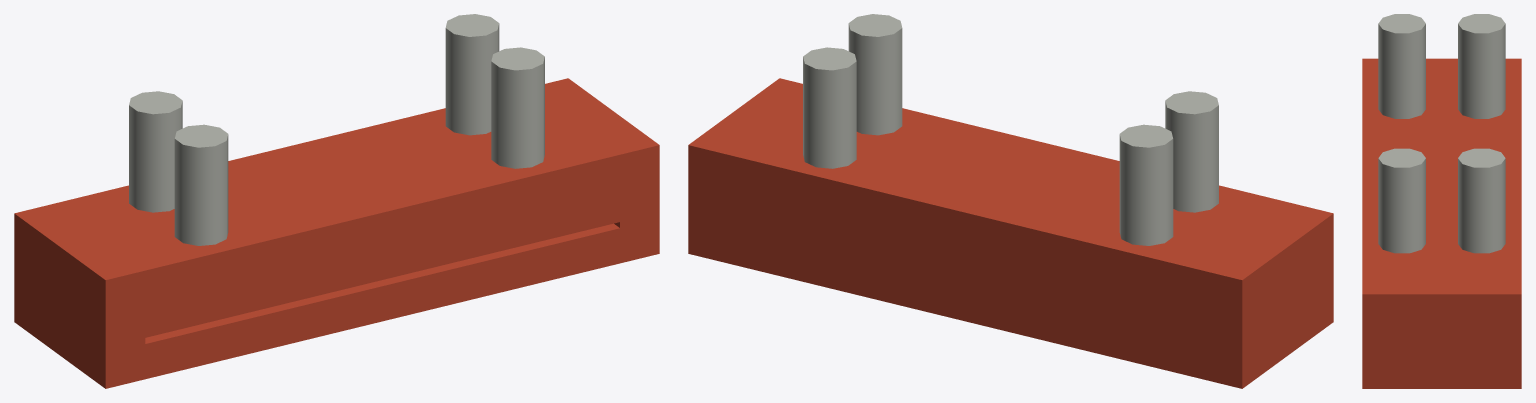
File: cooler-air-guide.glb
3 renders of one model, left to right at view 1: azimuth 30°, elevation 25°; view 2: azimuth 150°, elevation 25°; view 3: azimuth 270°, elevation 25°, orthographic. The views are drawn at different scales.
Visible parts, largest first — view 1: cooler-air-guide:shroudRed, cooler-air-guide:zincPlate; view 2: cooler-air-guide:shroudRed, cooler-air-guide:zincPlate; view 3: cooler-air-guide:shroudRed, cooler-air-guide:zincPlate.
Part boxes in pixels (bbox=[...]): cooler-air-guide:shroudRed: bbox=[14, 78, 659, 388]; cooler-air-guide:zincPlate: bbox=[129, 14, 544, 245]; cooler-air-guide:shroudRed: bbox=[688, 78, 1333, 388]; cooler-air-guide:zincPlate: bbox=[803, 14, 1218, 245]; cooler-air-guide:shroudRed: bbox=[1362, 58, 1521, 388]; cooler-air-guide:zincPlate: bbox=[1378, 14, 1505, 253].
Bounding box in the file's own units: 56 × 20 × 16.
